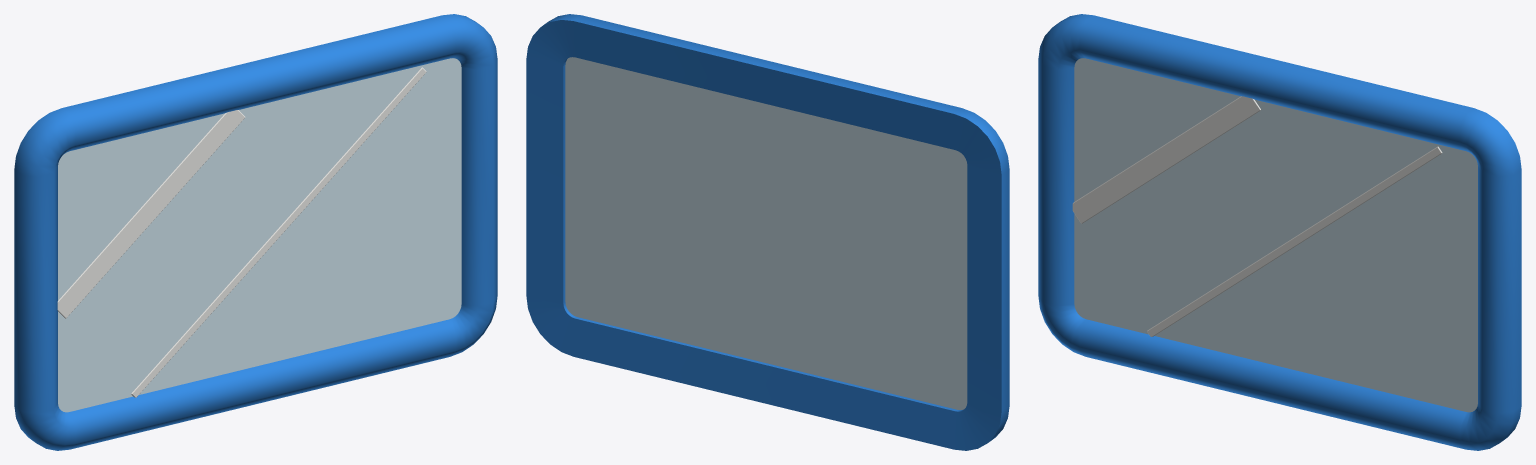
The model's file is espelho_retangular_azul.glb.
3 views of the same model, side by side, from view 1: azimuth 30°, elevation 25°; view 2: azimuth 150°, elevation 25°; view 3: azimuth 330°, elevation 25° (orthographic).
Visible parts, largest first — view 1: espelho_retangular_azul; view 2: espelho_retangular_azul; view 3: espelho_retangular_azul.
Boxes of the visible parts, bbox=[...] form: espelho_retangular_azul: bbox=[14, 14, 497, 450]; espelho_retangular_azul: bbox=[526, 14, 1009, 450]; espelho_retangular_azul: bbox=[1038, 14, 1521, 450].
Bounding box in the file's own units: 0.8 × 0.54 × 0.04.
Materials: 2 (1 with a texture image).
